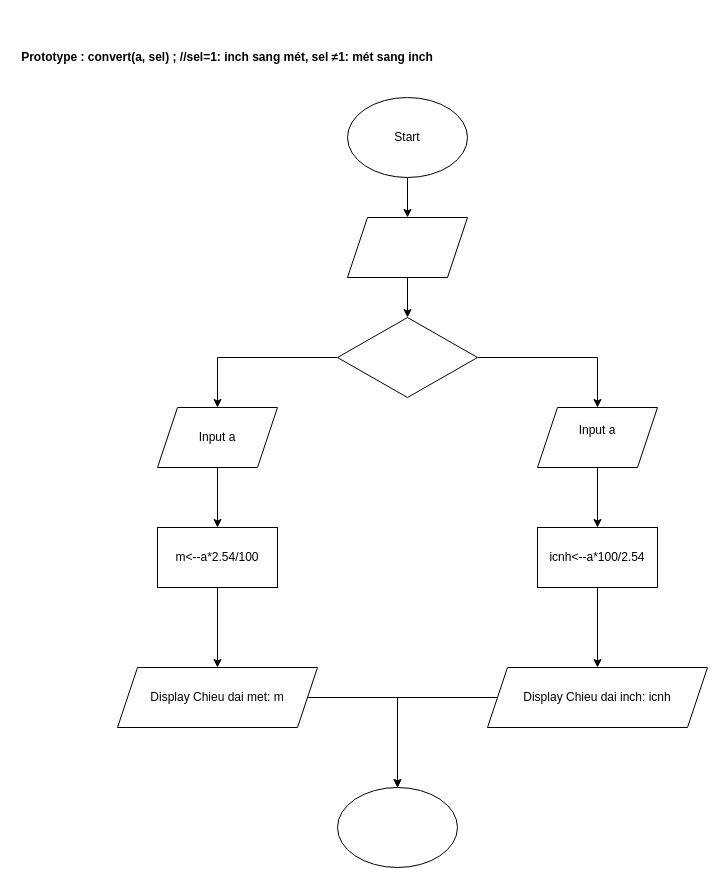
This 725x885 diagram has some shape labels left out. The centre of each missing label's shape, as x and y in pixels:
End: the point at 397,827
Input sel: the point at 407,247
sel=1?: the point at 407,357
